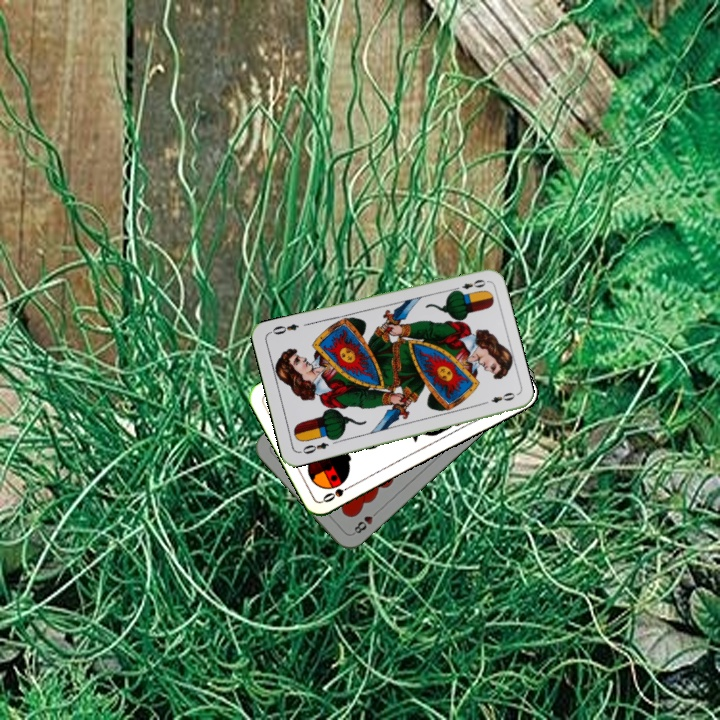EO: (449, 275, 488, 295), (296, 438, 331, 457)
H8: (349, 506, 382, 537)
SO: (318, 480, 356, 505)
